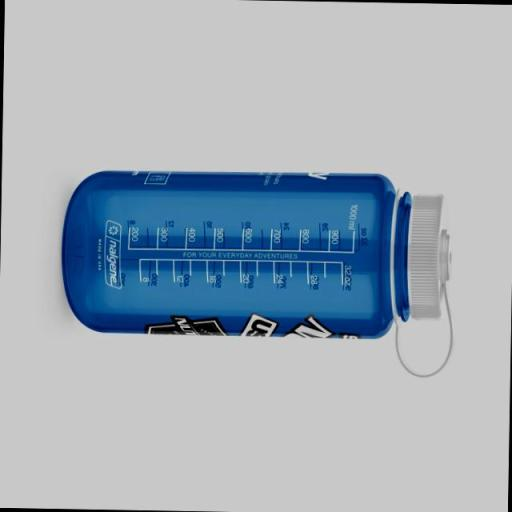bottle: (59, 164, 459, 382)
